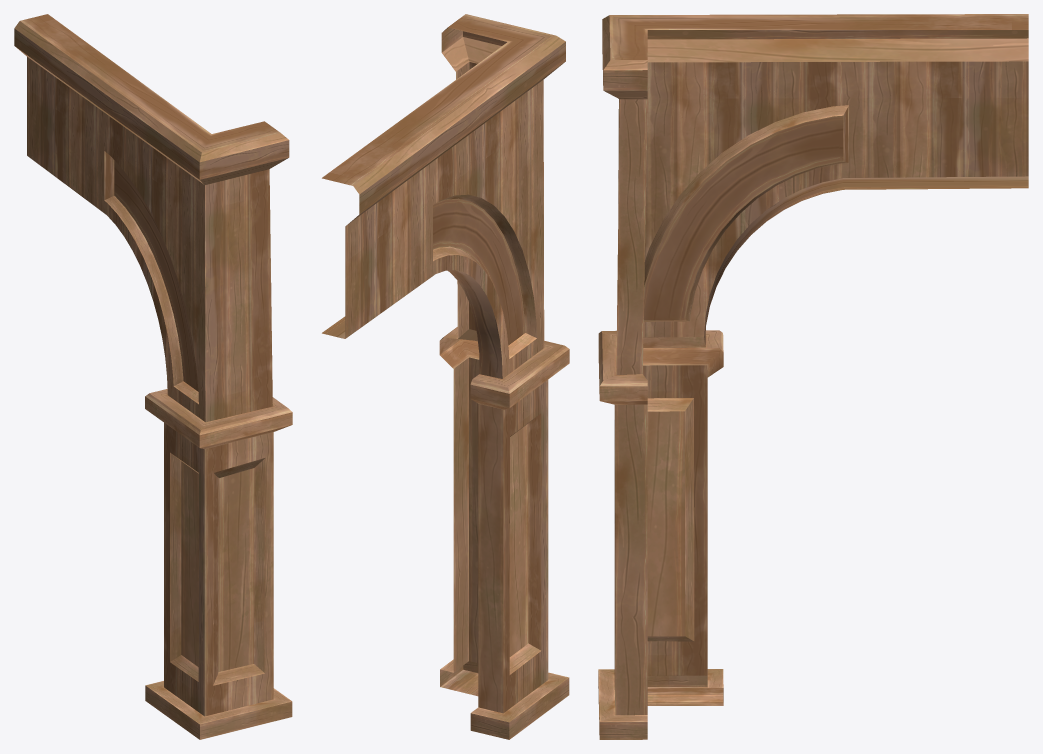
Rendered from SM_Door_Decoration.fbx.
The picture shows the model from 3 angles, left to right: view 1: azimuth 30°, elevation 25°; view 2: azimuth 150°, elevation 25°; view 3: azimuth 270°, elevation 25°; orthographic projection. The views are drawn at different scales.
Visible parts, largest first — view 1: SM_Door_Decoration_LOD0; view 2: SM_Door_Decoration_LOD0; view 3: SM_Door_Decoration_LOD0.
Boxes of the visible parts, bbox=[...] form: SM_Door_Decoration_LOD0: bbox=[14, 14, 292, 739]; SM_Door_Decoration_LOD0: bbox=[322, 14, 569, 739]; SM_Door_Decoration_LOD0: bbox=[598, 14, 1028, 739].
Bounding box in the file's own units: 66.34 × 226 × 391.
Materials: 1 (1 with a texture image).
